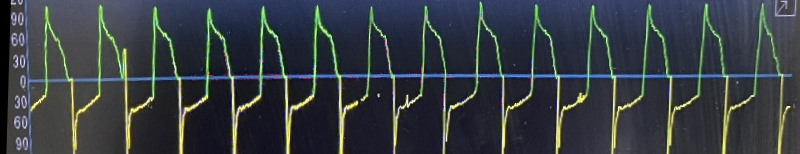hydrop_peepi: (21, 2, 791, 154)
